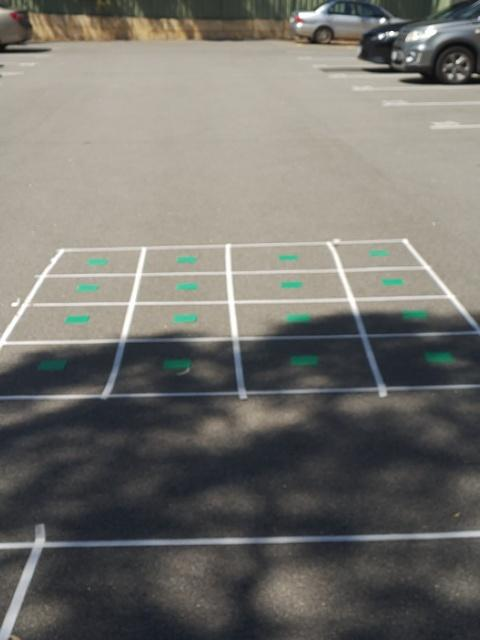weed: (38, 358, 69, 373), (160, 357, 192, 370), (423, 350, 455, 363), (289, 354, 318, 368), (285, 312, 314, 324), (401, 309, 428, 321), (65, 314, 91, 325), (171, 313, 198, 323), (175, 281, 199, 292), (89, 256, 109, 269), (381, 277, 405, 287), (175, 255, 197, 265), (75, 283, 99, 292), (368, 249, 391, 257), (280, 281, 303, 288), (278, 255, 299, 262)
